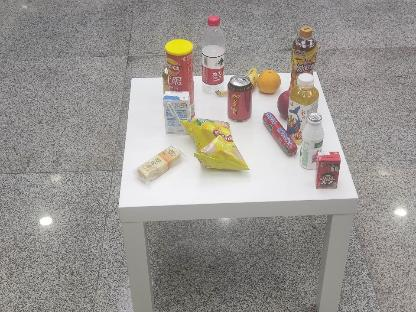Can: (228, 74, 252, 122)
Others: (162, 36, 202, 118), (162, 87, 196, 137), (314, 149, 344, 191)
Plastic Bottle: (196, 12, 226, 95)
